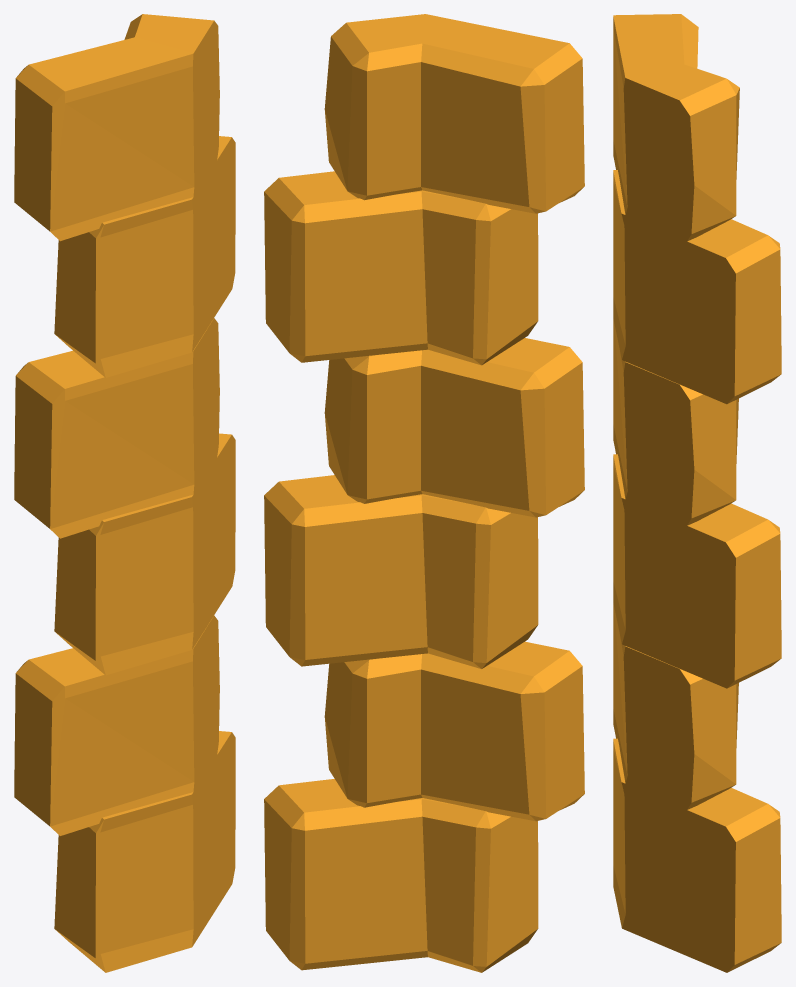
File: SM_Wall_Thick_Corner_Diagonal_Out_Stone_3m_Int_Fantasy.fbx
3 renders of one model, left to right at view 1: azimuth 30°, elevation 25°; view 2: azimuth 150°, elevation 25°; view 3: azimuth 270°, elevation 25°, orthographic. The views are drawn at different scales.
Visible parts, largest first — view 1: SM_Wall_Thick_Corner_Diagonal_Out_Stone_3m_Int_Fantasy; view 2: SM_Wall_Thick_Corner_Diagonal_Out_Stone_3m_Int_Fantasy; view 3: SM_Wall_Thick_Corner_Diagonal_Out_Stone_3m_Int_Fantasy.
Boxes of the visible parts, left/top/right/bottom form: SM_Wall_Thick_Corner_Diagonal_Out_Stone_3m_Int_Fantasy: left=14, top=14, right=235, bottom=972; SM_Wall_Thick_Corner_Diagonal_Out_Stone_3m_Int_Fantasy: left=264, top=14, right=584, bottom=972; SM_Wall_Thick_Corner_Diagonal_Out_Stone_3m_Int_Fantasy: left=613, top=14, right=781, bottom=972.
Size of the model in its own units: 0.8846 by 3.02 by 0.5409.
